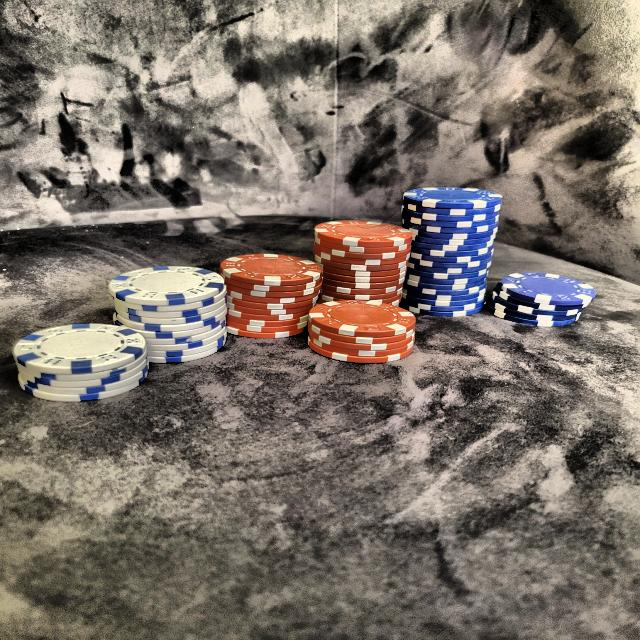Chip: (394, 181, 513, 321), (18, 302, 160, 418), (104, 258, 233, 376), (223, 240, 331, 350), (312, 215, 415, 315), (485, 256, 609, 331), (310, 284, 422, 367), (422, 190, 491, 310)
